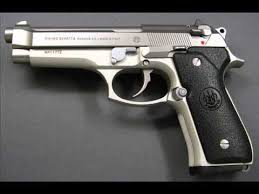Arma Real: (2, 18, 256, 173)
